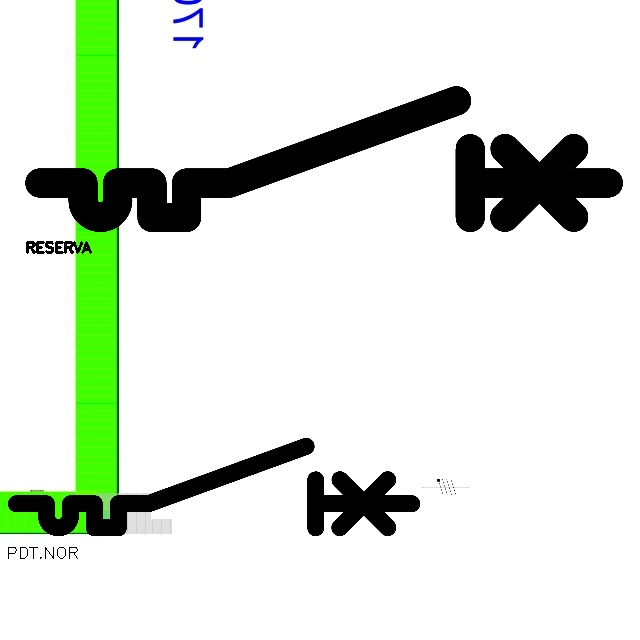interruptor_termomagnetico: (25, 86, 623, 232), (6, 436, 422, 538)
